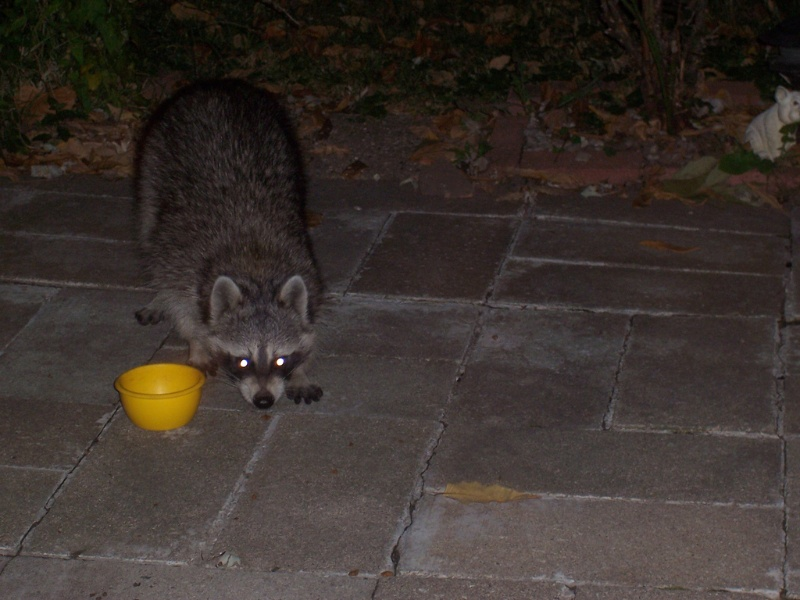raccoon: (124, 75, 334, 406)
